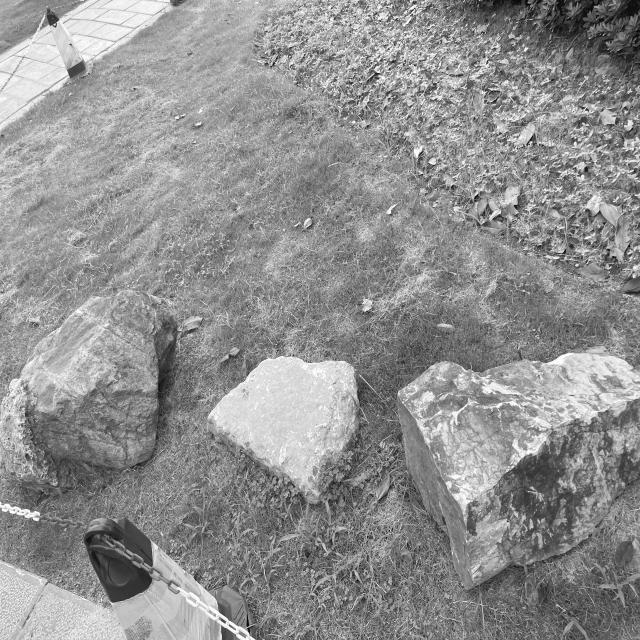Stone: (397, 352, 640, 586), (0, 292, 176, 484), (208, 356, 358, 503)
